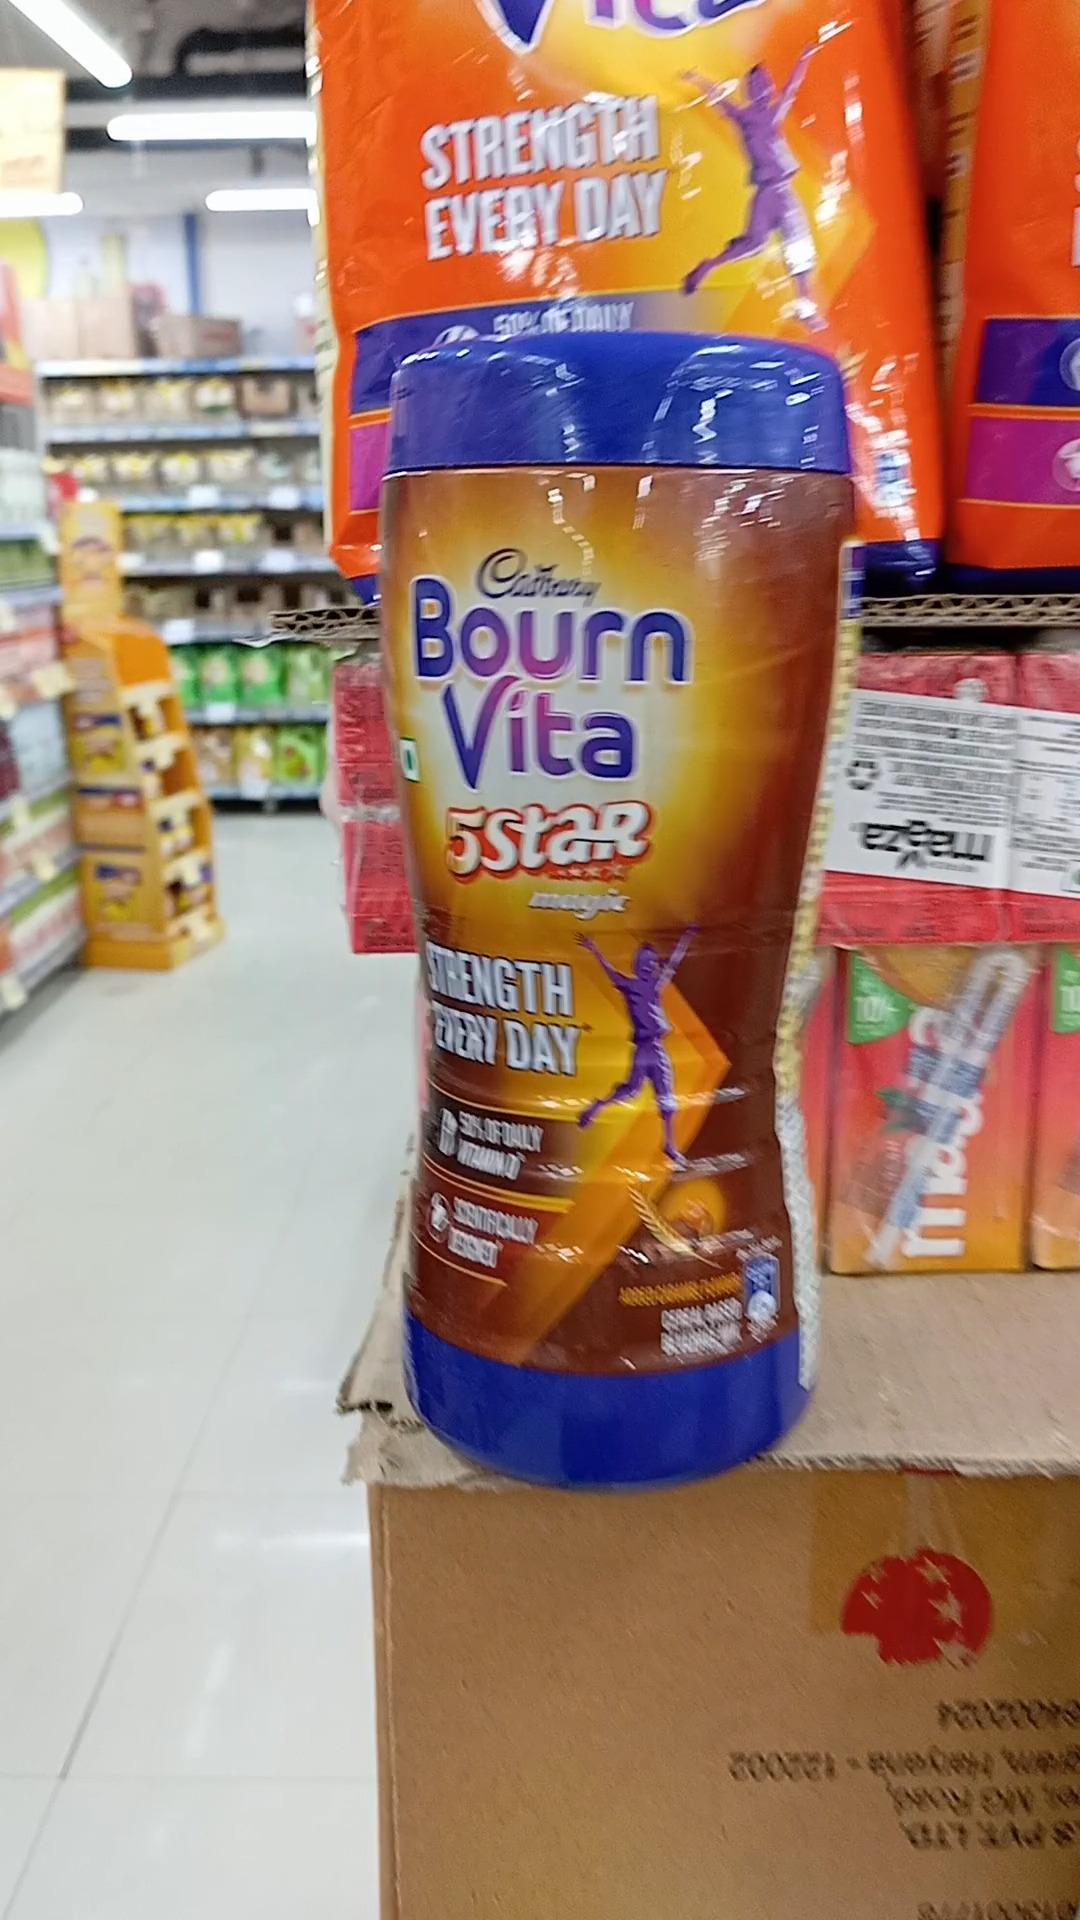BOURN_VITA_FIVE_STAR_MAGIC_500_G_JAR: (376, 330, 816, 1484)
